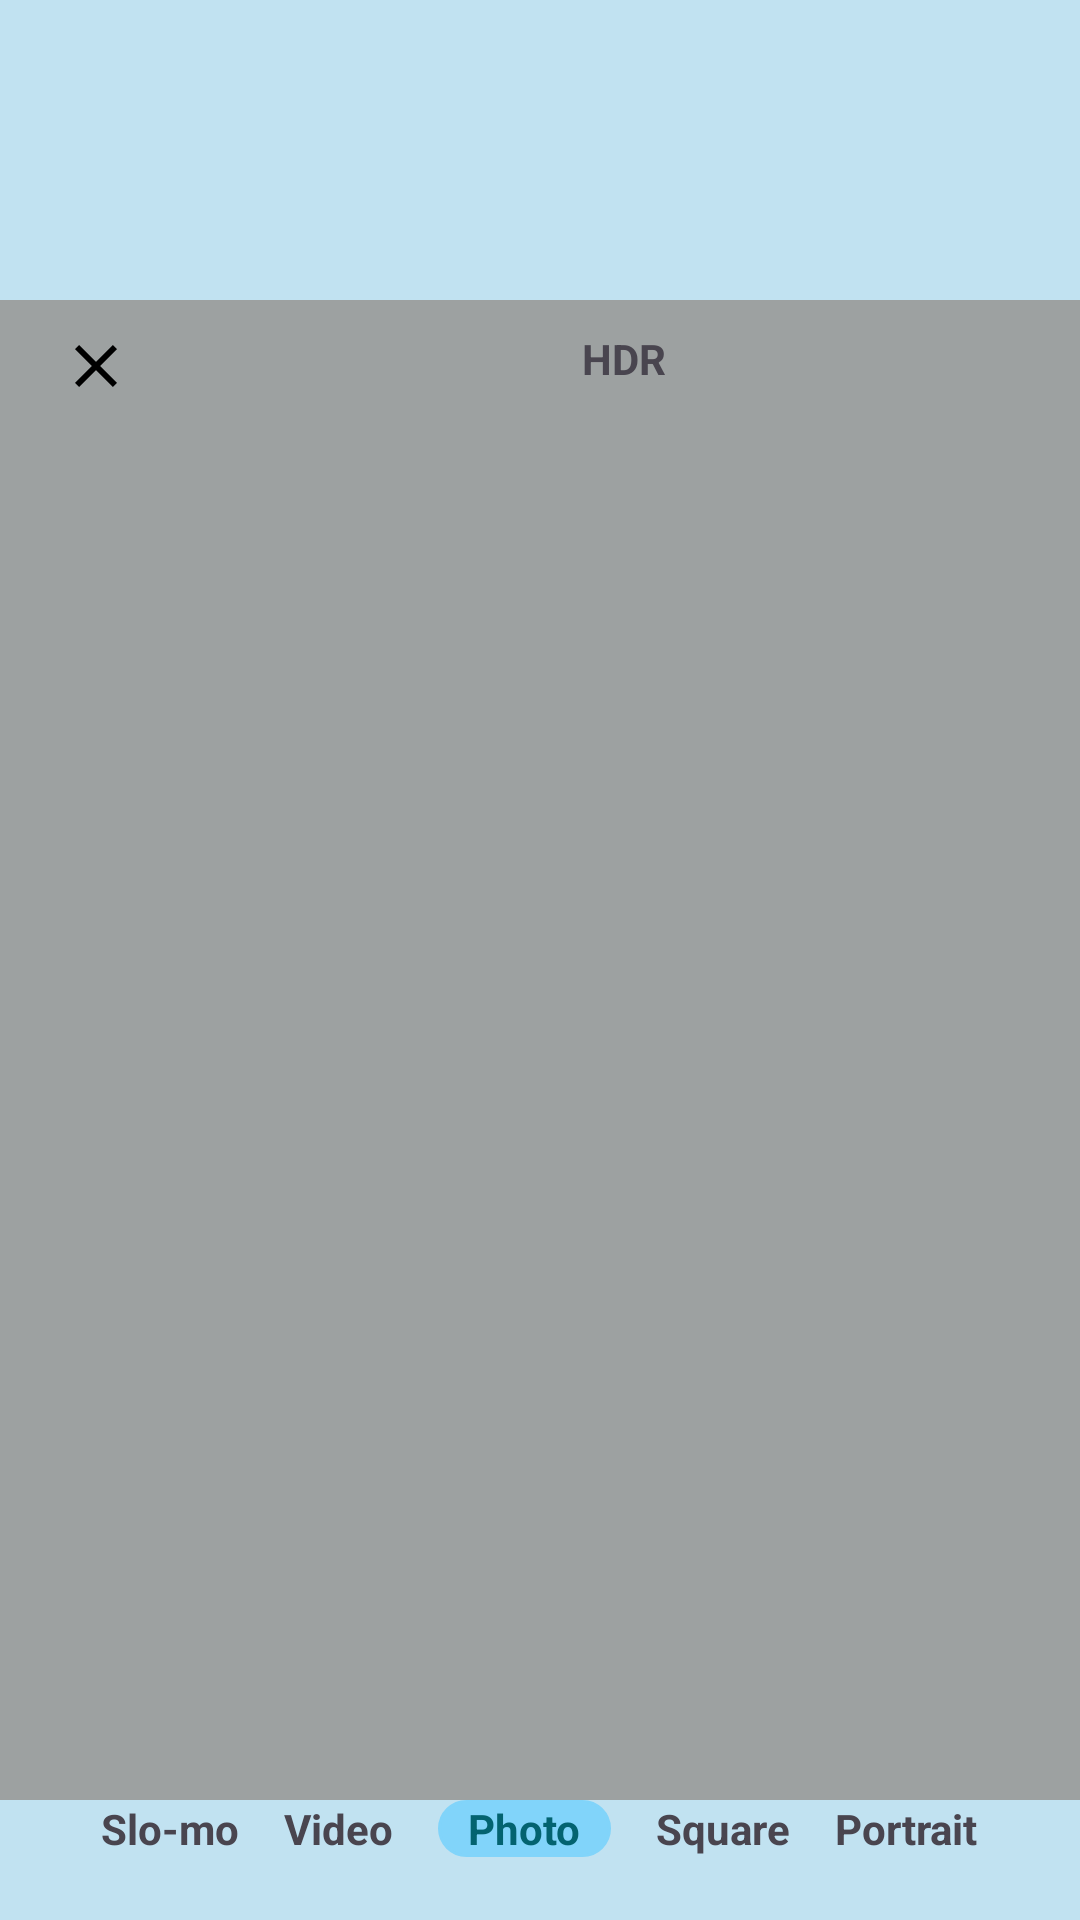

Icon click points for this 1080x1920 phone screenshot, format (x=x, y=y):
clear: (x=96, y=366)
